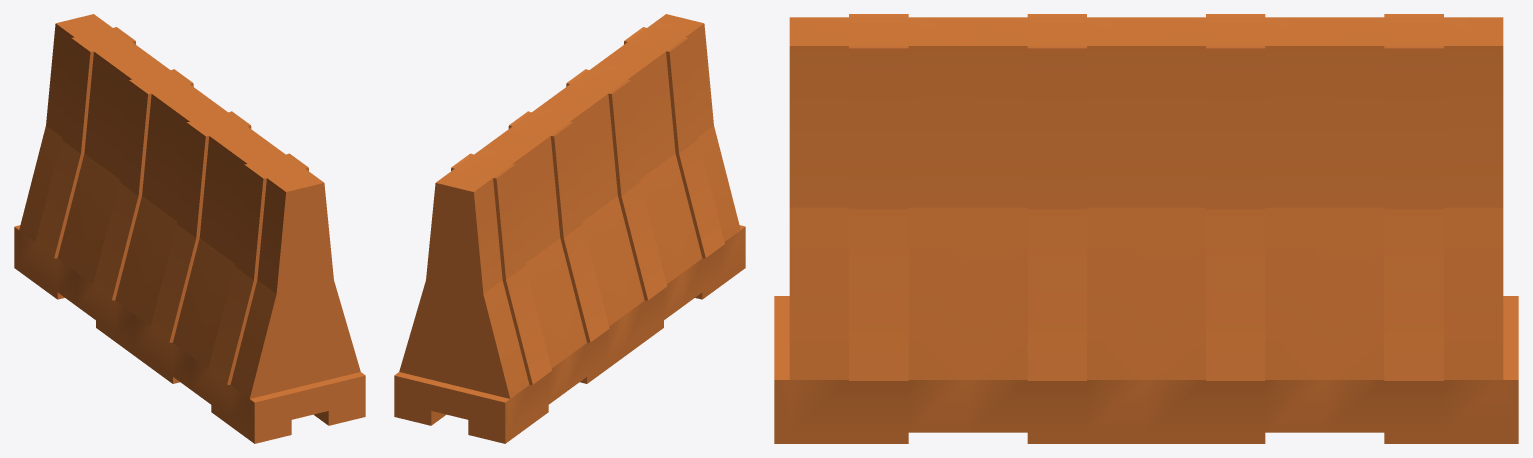
File: Plastic_Barrier_Orange.fbx
3 views of the same model, side by side, from view 1: azimuth 30°, elevation 25°; view 2: azimuth 150°, elevation 25°; view 3: azimuth 270°, elevation 25° (orthographic). The views are drawn at different scales.
Visible parts, largest first — view 1: Plastic Barrier Orange; view 2: Plastic Barrier Orange; view 3: Plastic Barrier Orange.
Boxes of the visible parts, left/top/right/bottom form: Plastic Barrier Orange: left=14, top=14, right=365, bottom=443; Plastic Barrier Orange: left=394, top=14, right=745, bottom=443; Plastic Barrier Orange: left=774, top=14, right=1518, bottom=443.
Size of the model in its own units: 4973 by 9660 by 17568.
